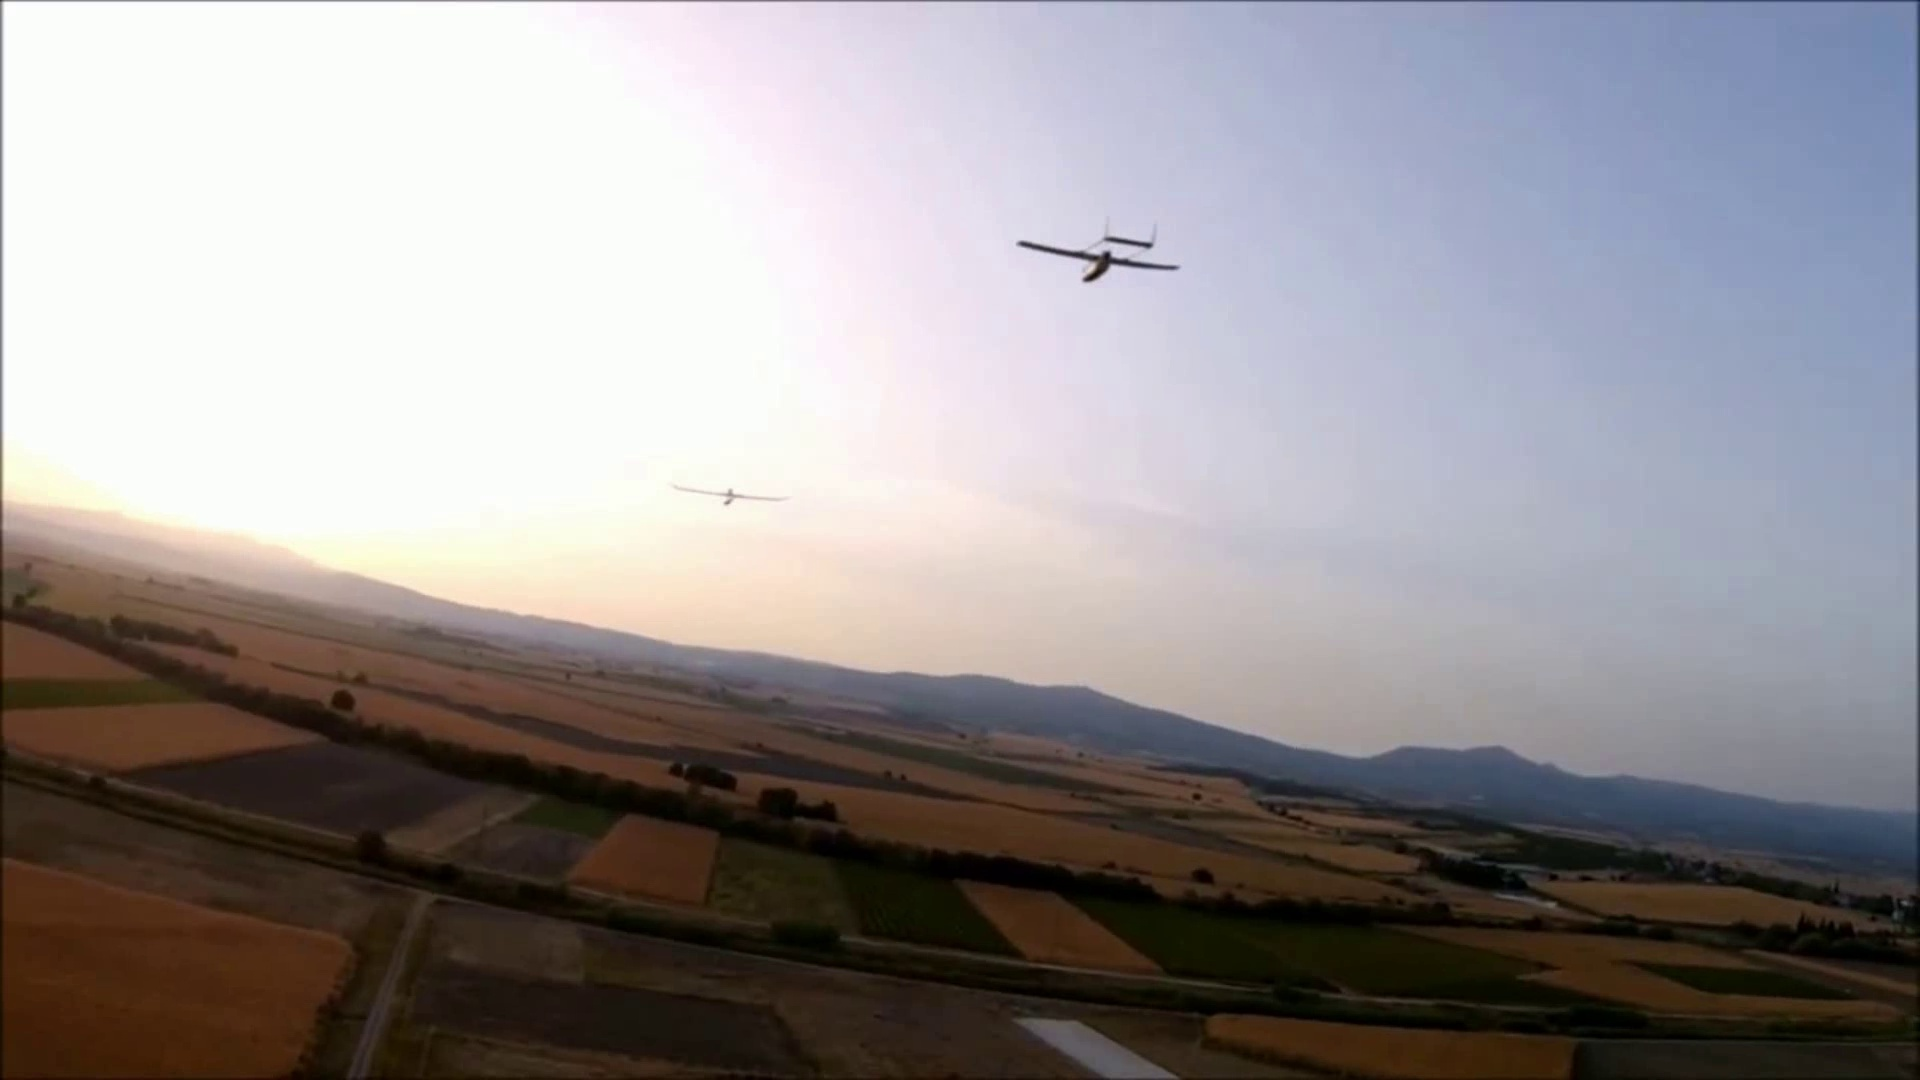airplane: (7, 438, 1841, 923), (1013, 218, 1179, 284), (666, 479, 793, 506)
